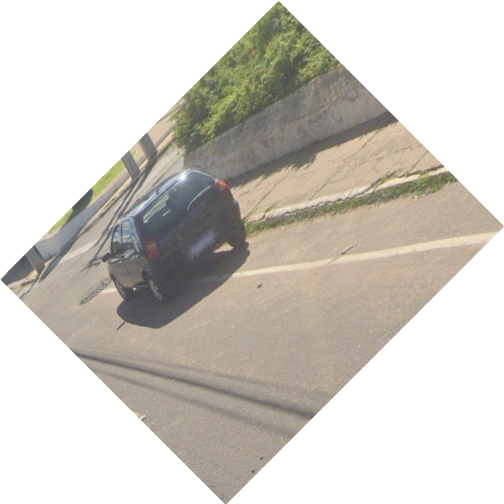car: (98, 165, 260, 314)
